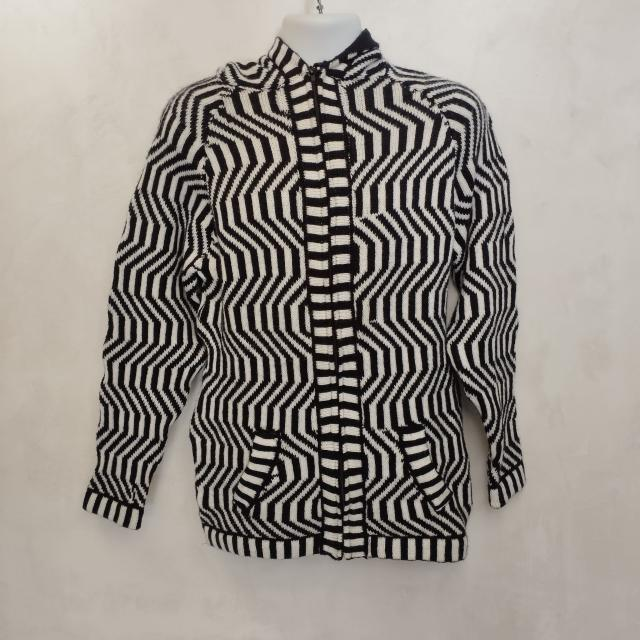Chompa: (82, 21, 526, 563)
